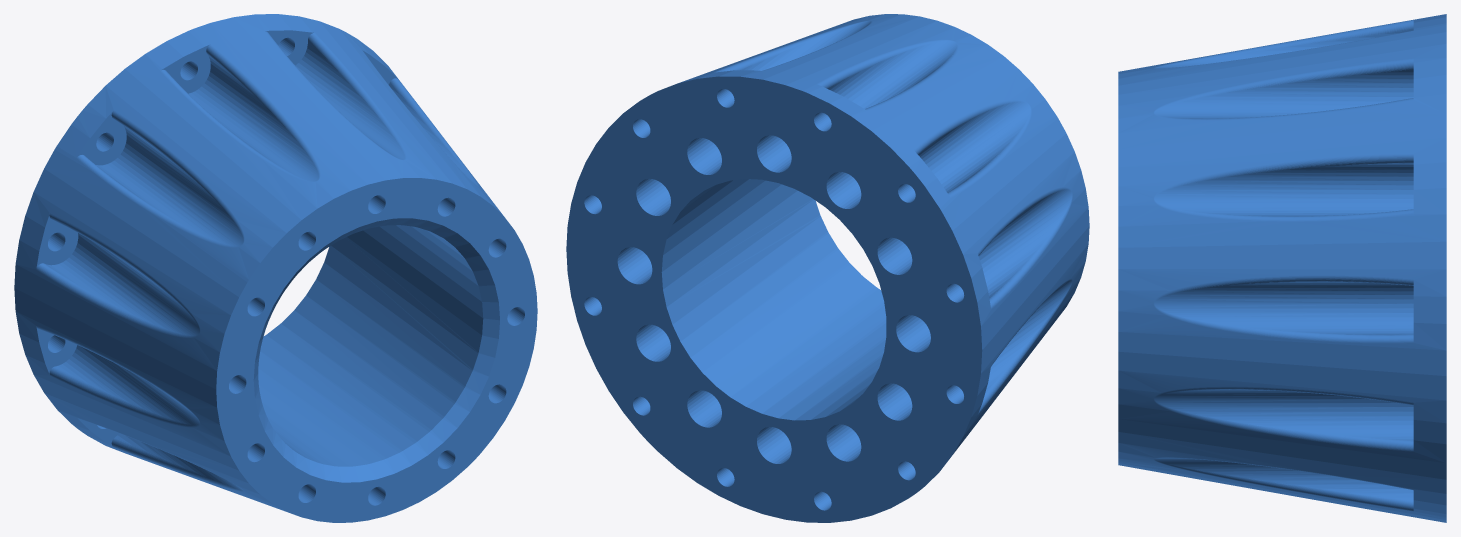
3 views of the same model, side by side, from view 1: azimuth 30°, elevation 25°; view 2: azimuth 150°, elevation 25°; view 3: azimuth 270°, elevation 25° (orthographic). The views are drawn at different scales.
Parts seen in each view (by area): view 1: base; view 2: base; view 3: base.
Boxes of the visible parts, left/top/right/bottom form: base: left=14, top=14, right=537, bottom=522; base: left=566, top=14, right=1089, bottom=522; base: left=1118, top=14, right=1446, bottom=522.
Size of the model in its own units: 0.0776 by 0.0775 by 0.05.
1 material, 1 textured.
